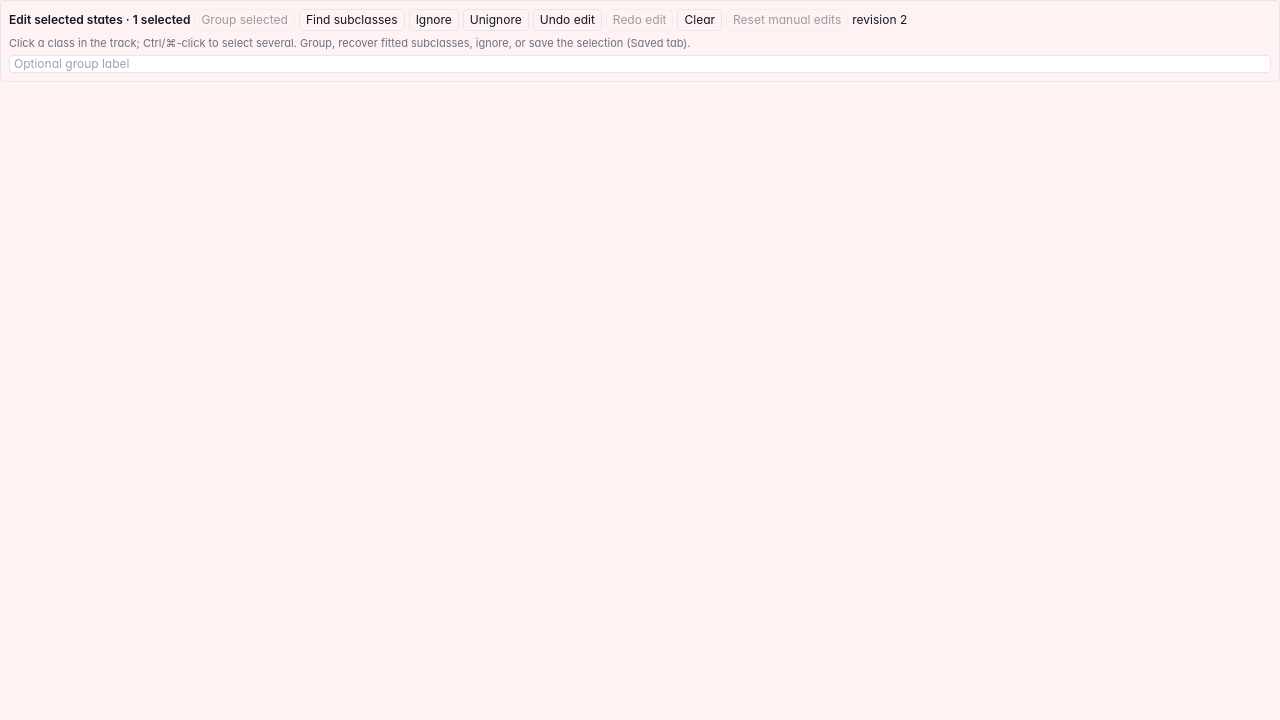
Test: shared manual curation and native reference controls › lets every automatic class report when no supported subclasses were retained
Click the button "Find subclasses" at (352, 20), box top-left (299, 9), bottom-right (405, 31)
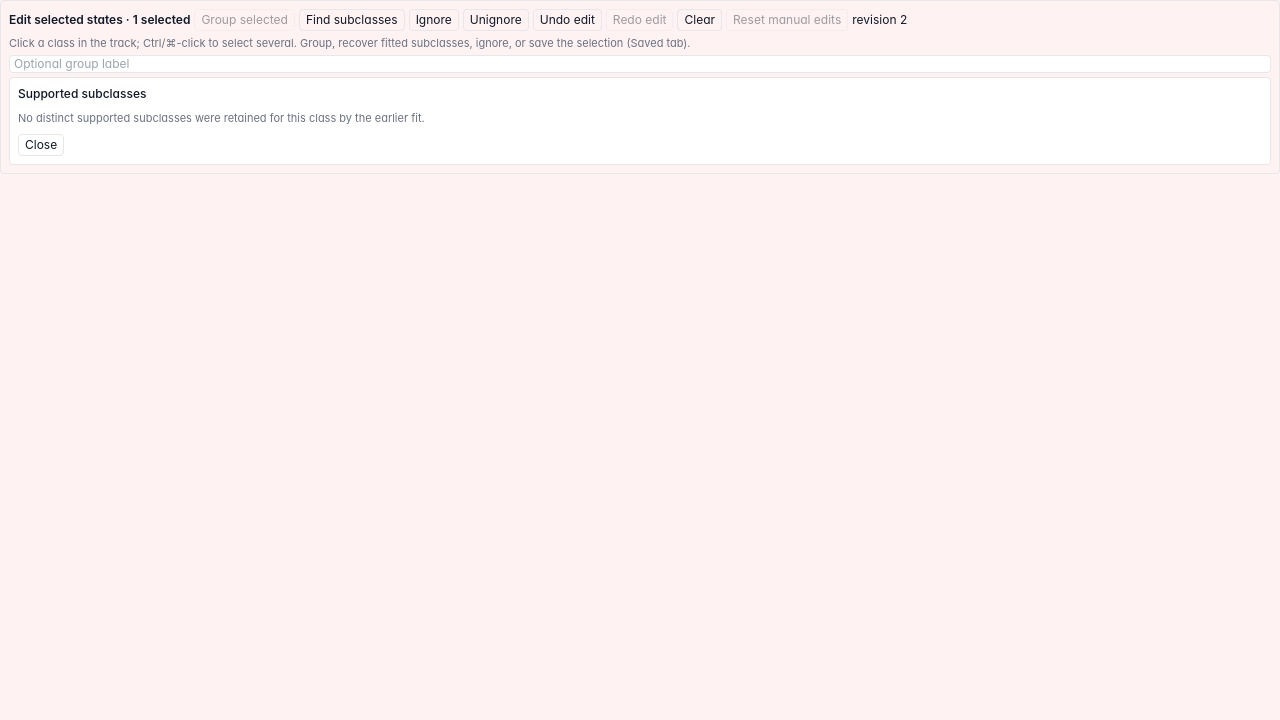
Expected: the text "No distinct supported subclasses were retained" is shown, top-left (18, 111), bottom-right (425, 125)
